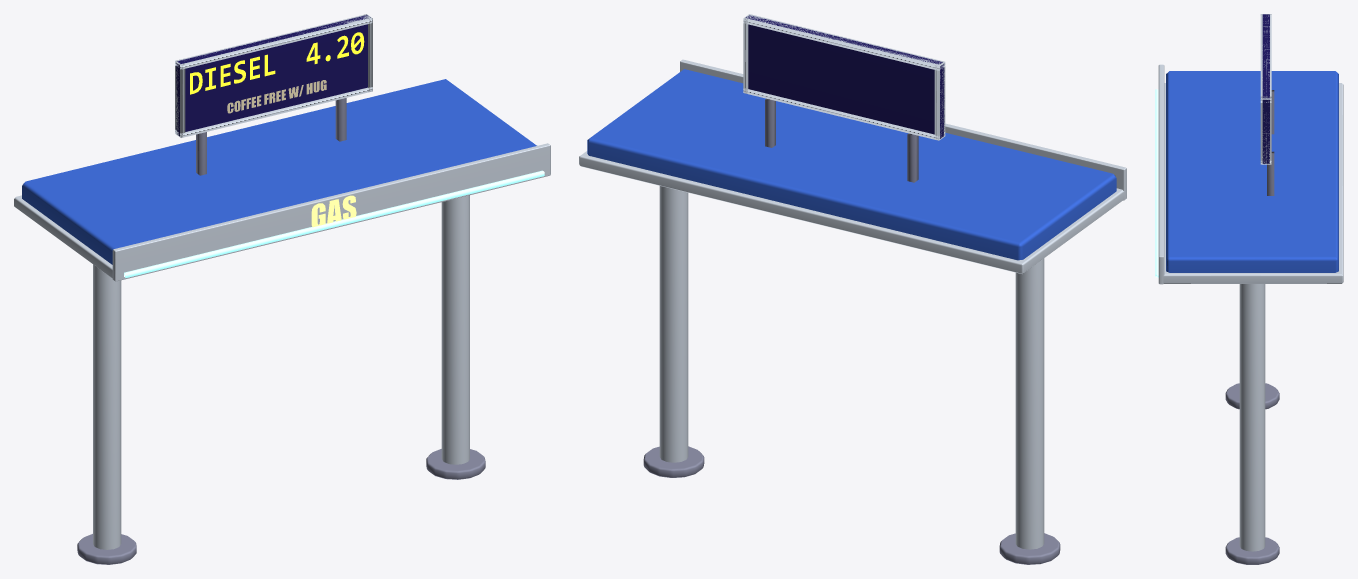
File: gas_canopy.glb
3 views of the same model, side by side, from view 1: azimuth 30°, elevation 25°; view 2: azimuth 150°, elevation 25°; view 3: azimuth 270°, elevation 25° (orthographic). The views are drawn at different scales.
Visible parts, largest first — view 1: Canopy, PriceBoard, Neon; view 2: Canopy, PriceBoard; view 3: Canopy, PriceBoard.
Part boxes in pixels (x1,y1,x2,y2): Canopy: [14, 79, 550, 564]; PriceBoard: [175, 14, 372, 175]; Neon: [311, 195, 356, 227]; Canopy: [579, 59, 1126, 564]; PriceBoard: [743, 14, 945, 182]; Canopy: [1155, 64, 1343, 564]; PriceBoard: [1260, 14, 1274, 195].
Bounding box in the file's own units: 5 × 5.1 × 2.07.
